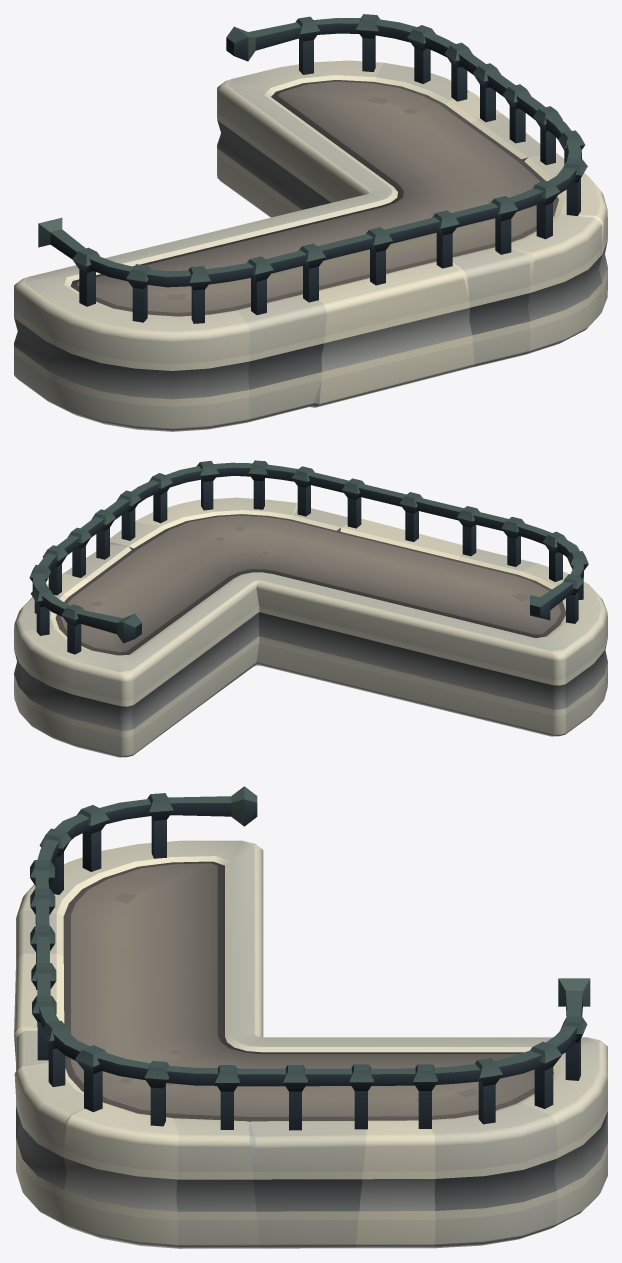
The model's file is balcony5_LOD_setup.fbx.
The picture shows the model from 3 angles, top to bottom: view 1: azimuth 30°, elevation 25°; view 2: azimuth 150°, elevation 25°; view 3: azimuth 270°, elevation 25°; orthographic projection. The views are drawn at different scales.
Parts seen in each view (by area): view 1: balcony5_LOD0; view 2: balcony5_LOD0; view 3: balcony5_LOD0.
Part boxes in pixels (x1=…): balcony5_LOD0: x1=14, y1=14, x2=607, y2=431; balcony5_LOD0: x1=14, y1=460, x2=607, y2=757; balcony5_LOD0: x1=14, y1=786, x2=607, y2=1248.
Size of what is drawn, in the model's own units: 610 by 169 by 508.
